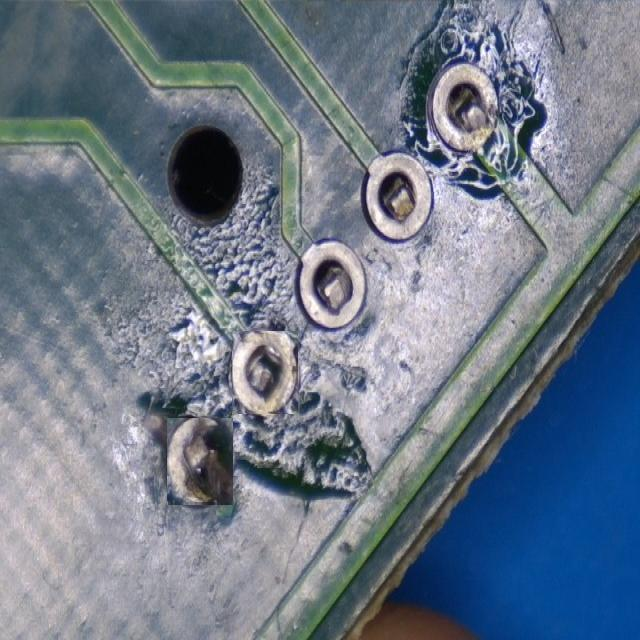Dry_joint: (167, 419, 233, 503), (233, 331, 297, 413)
